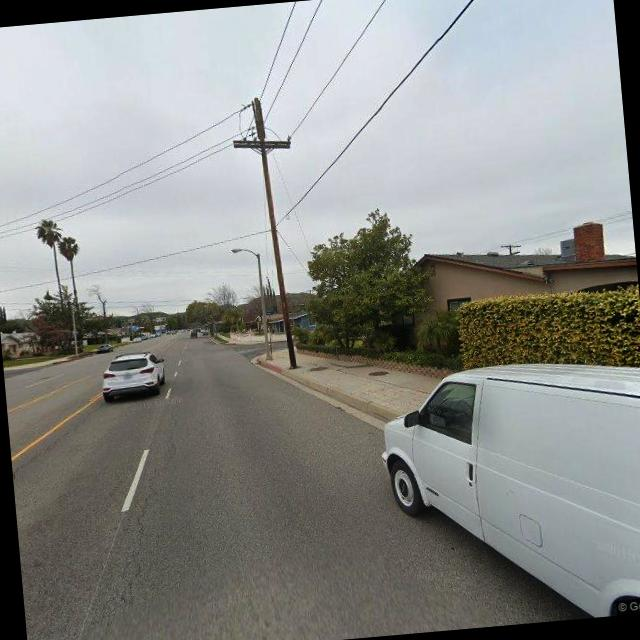pothole: (86, 434, 187, 632)
